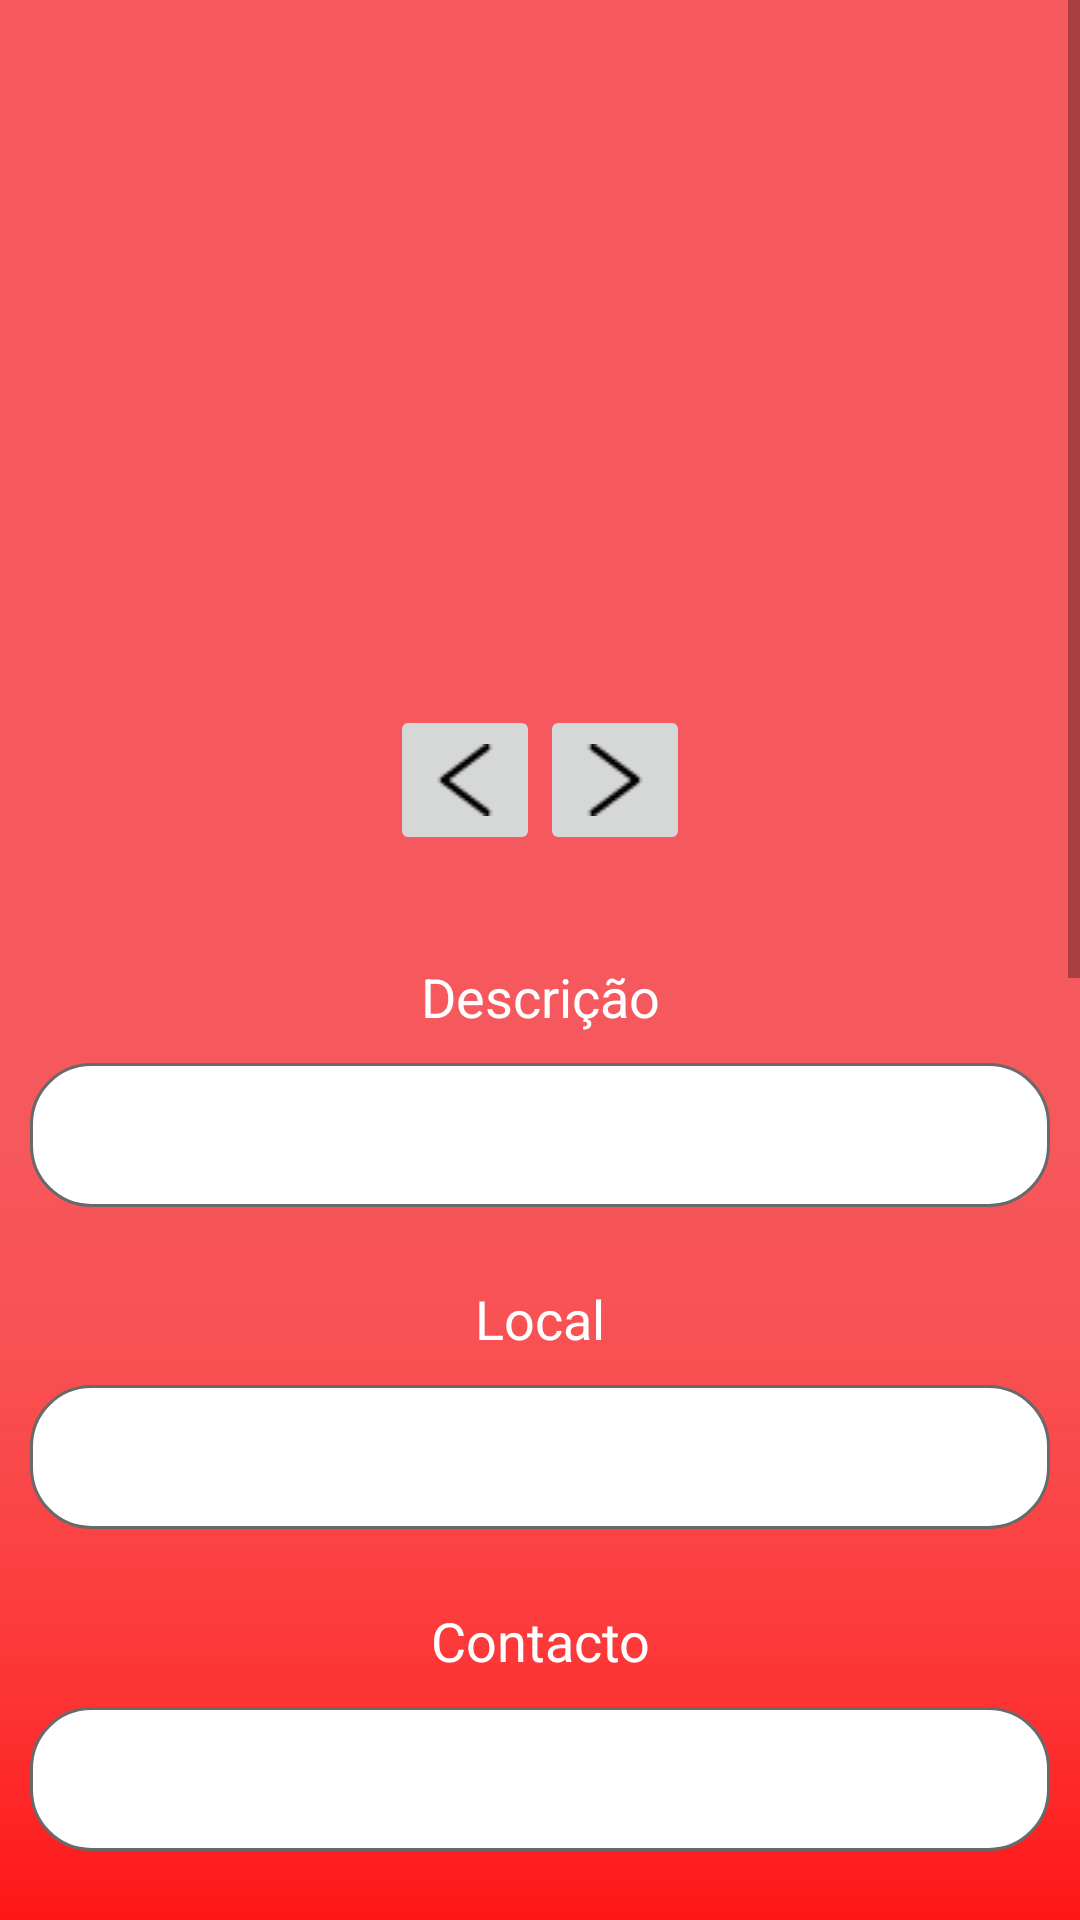

Locate icon controls on the screen. Image size 1080×1920, boxes as [left=x1, top=y1, right=x2, bottom=y2].
Direita: [left=552, top=723, right=678, bottom=837]
Esquerda: [left=402, top=723, right=528, bottom=837]
